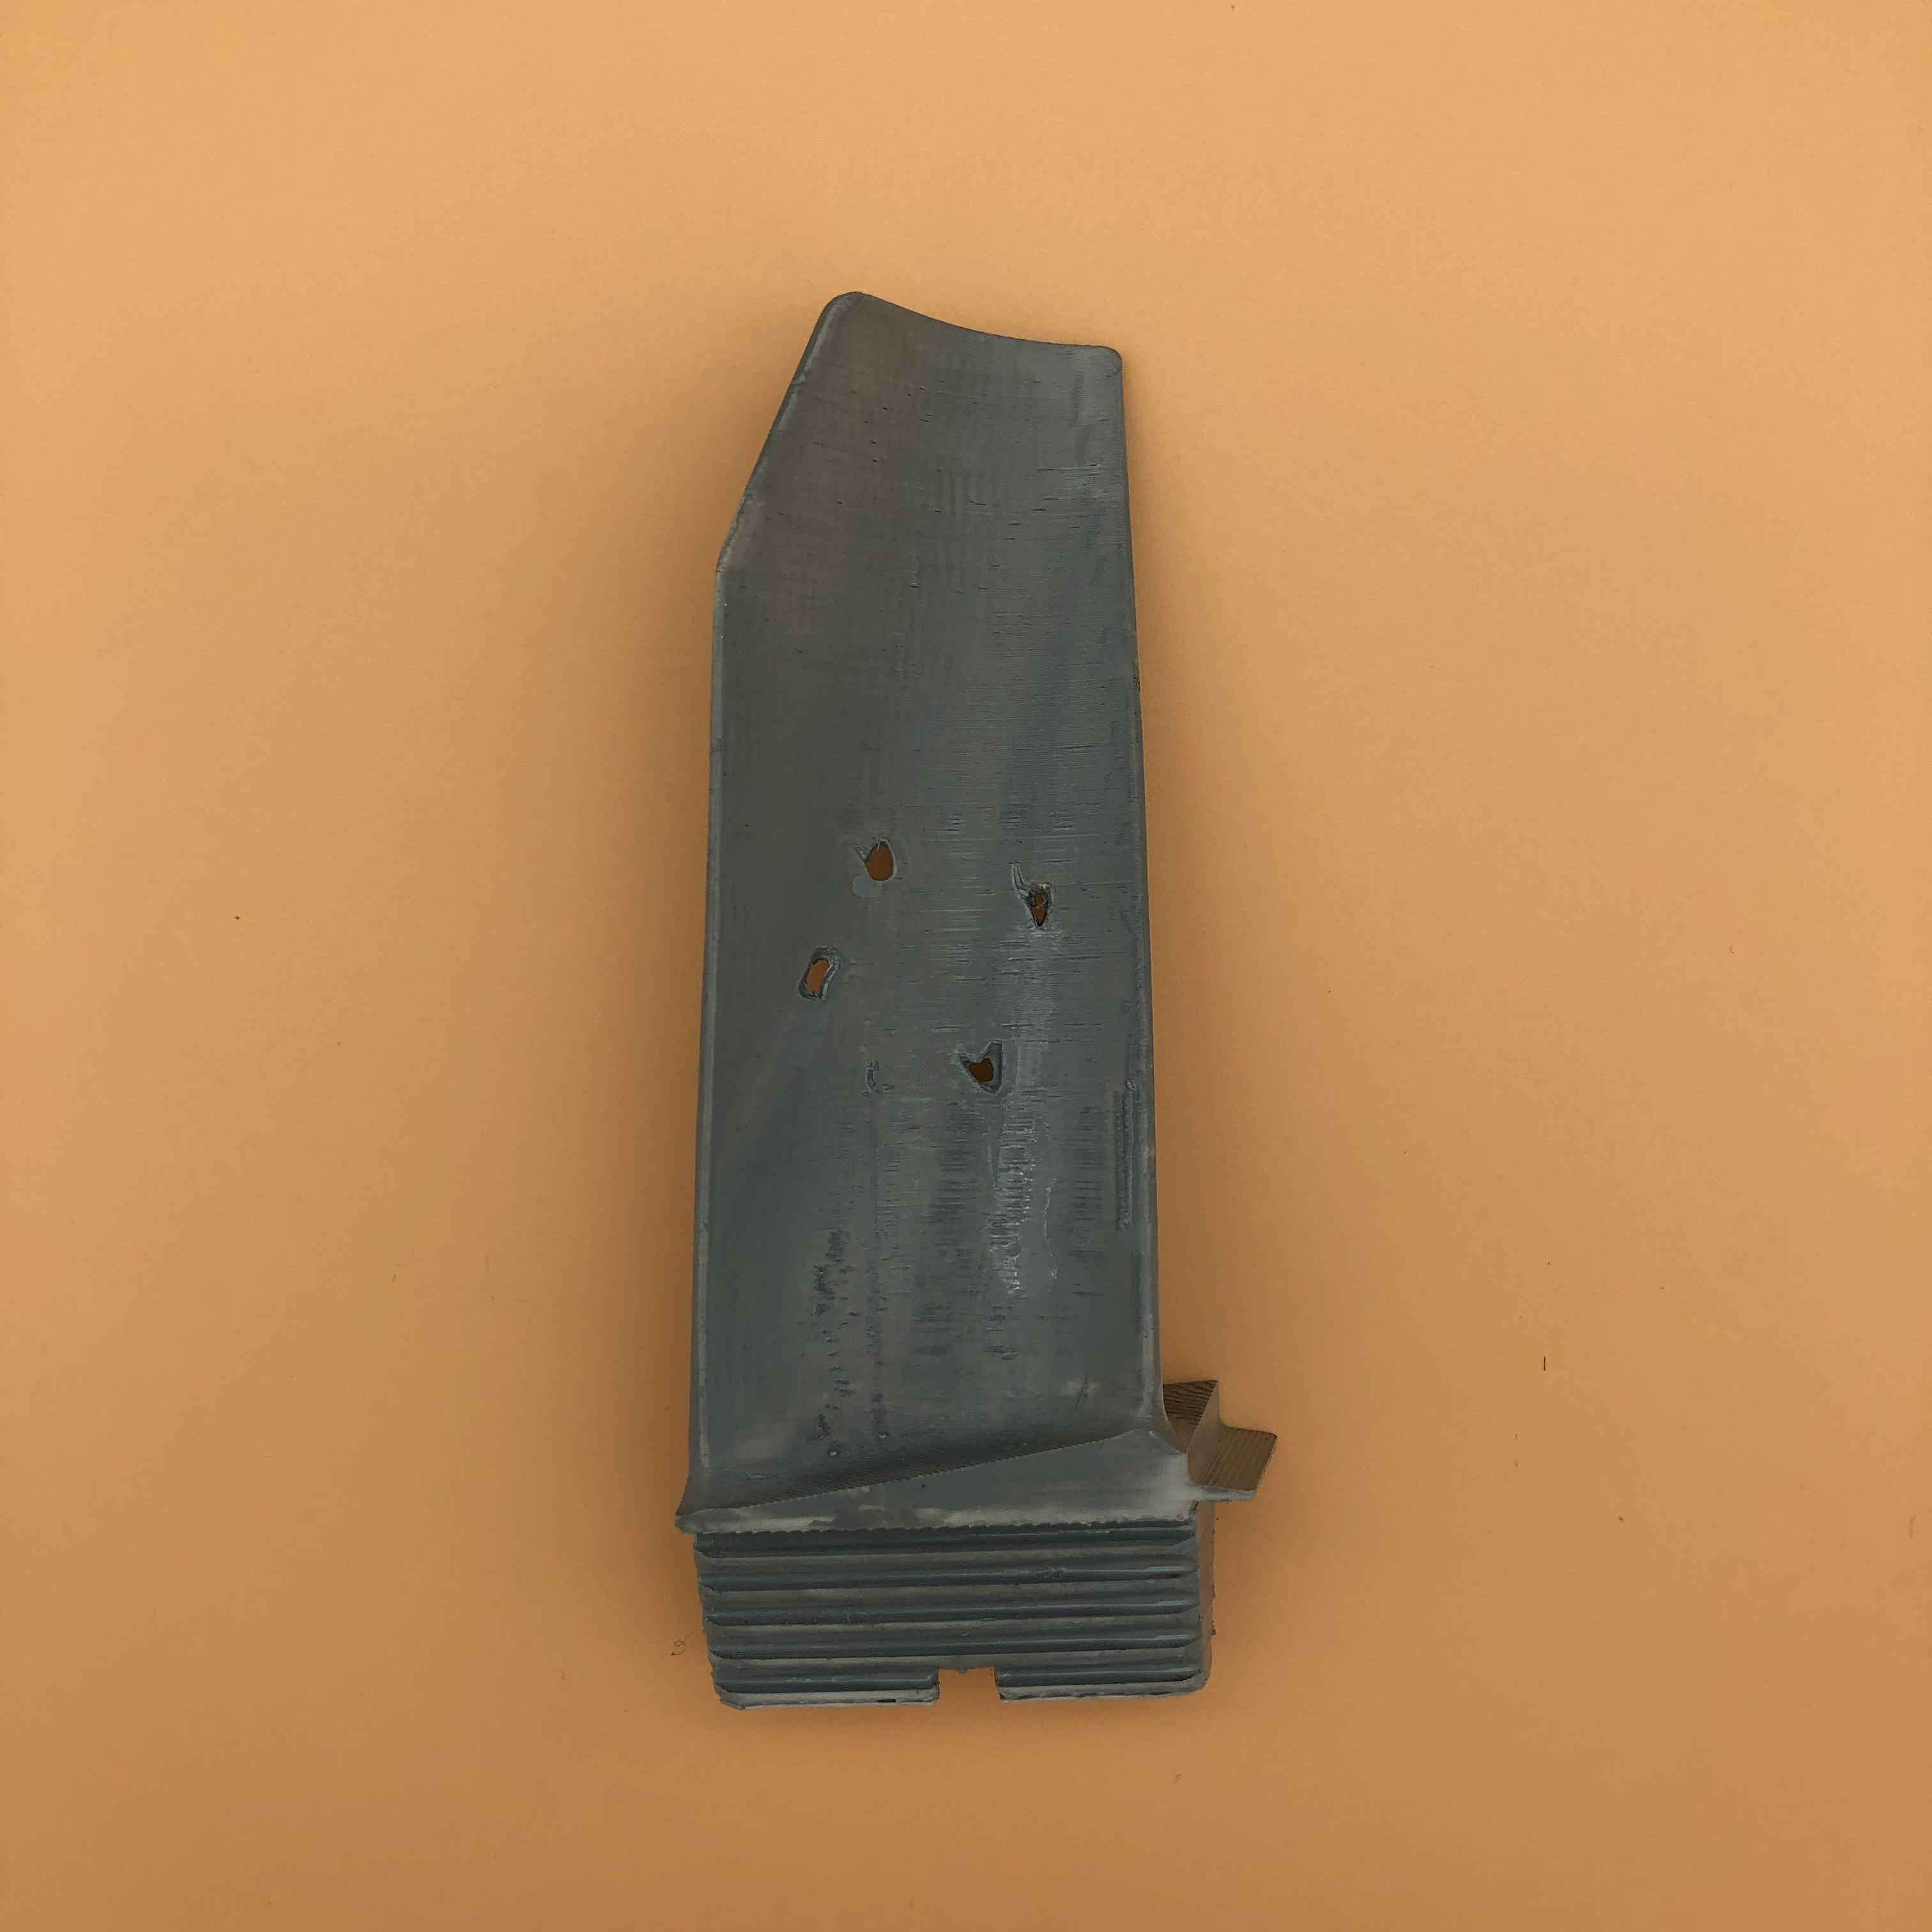breakdown: (801, 846, 913, 998), (955, 1042, 1024, 1102), (1012, 879, 1063, 934)
